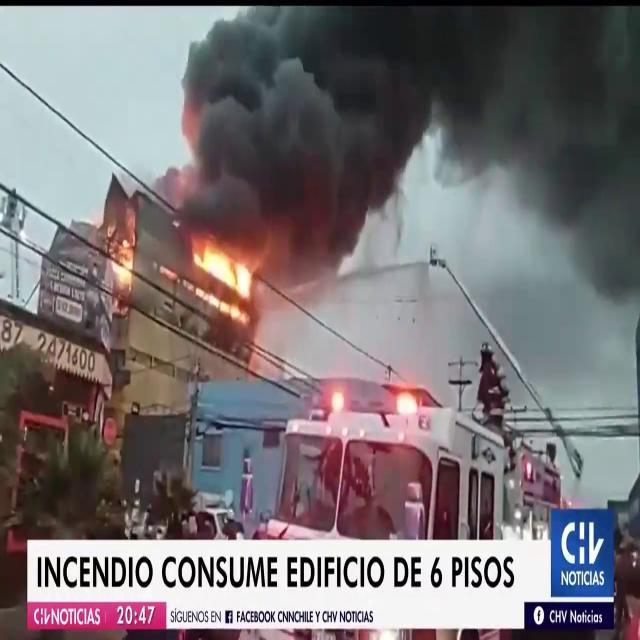Fire: (188, 238, 262, 318)
Smoke: (157, 3, 639, 257)
